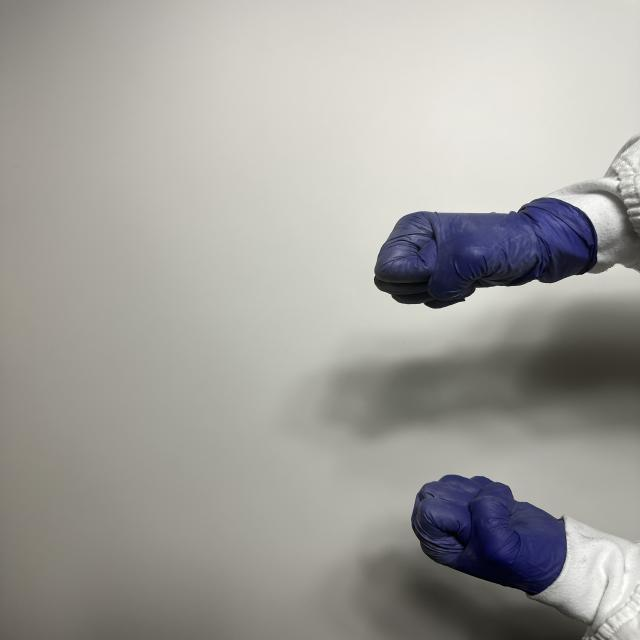gloves_contaminated: (375, 198, 597, 308), (412, 475, 566, 595)
